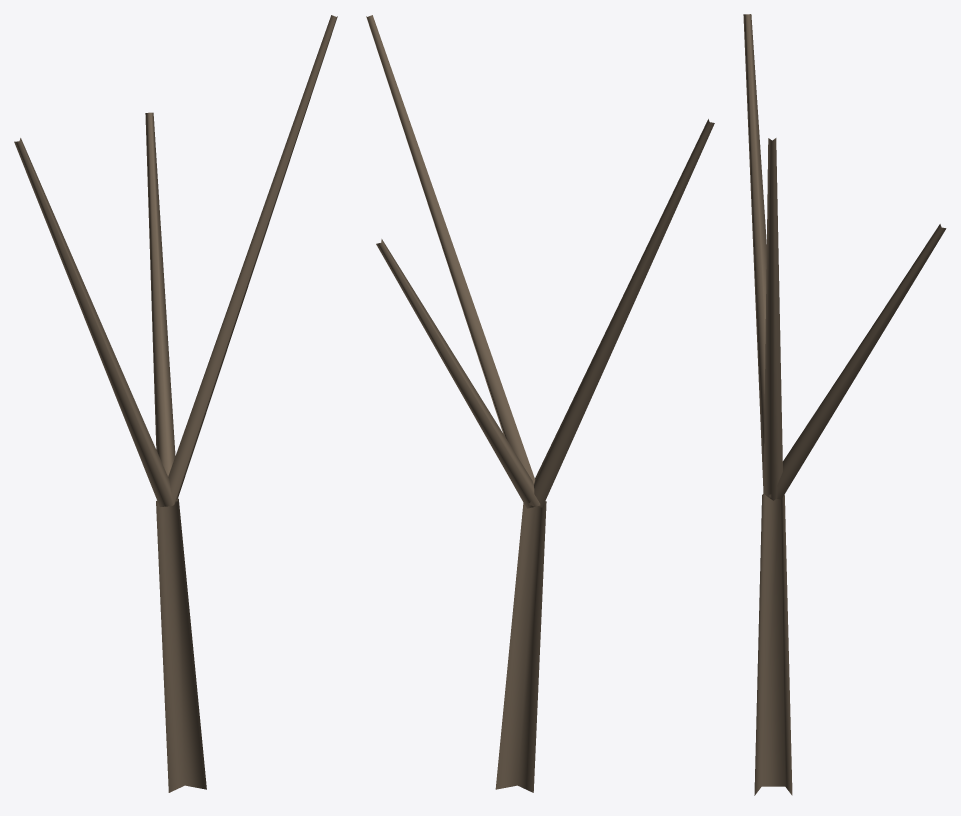
The model's file is dead_standing-a.lod1.glb.
3 views of the same model, side by side, from view 1: azimuth 30°, elevation 25°; view 2: azimuth 150°, elevation 25°; view 3: azimuth 270°, elevation 25° (orthographic). The views are drawn at different scales.
Parts seen in each view (by area): view 1: bark; view 2: bark; view 3: bark.
Boxes of the visible parts, left/top/right/bottom form: bark: left=14, top=15, right=337, bottom=792; bark: left=366, top=15, right=714, bottom=792; bark: left=743, top=14, right=946, bottom=795.
Size of the model in its own units: 2.84 by 6.01 by 1.52.
